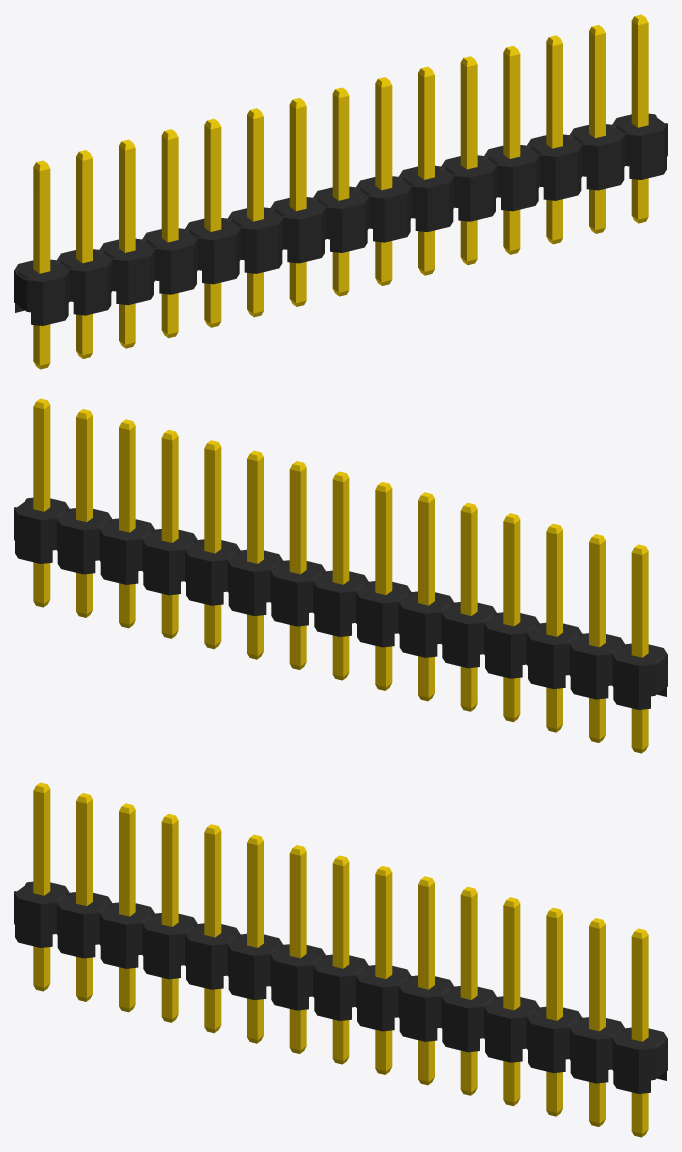
The model's file is PLS15.glb.
The picture shows the model from 3 angles, top to bottom: view 1: azimuth 30°, elevation 25°; view 2: azimuth 150°, elevation 25°; view 3: azimuth 330°, elevation 25°; orthographic projection.
Parts seen in each view (by area): view 1: PLS (DS1021 CONNFLY); view 2: PLS (DS1021 CONNFLY); view 3: PLS (DS1021 CONNFLY).
Part boxes in pixels (x1=…): PLS (DS1021 CONNFLY): x1=14, y1=14, x2=667, y2=369; PLS (DS1021 CONNFLY): x1=14, y1=398, x2=667, y2=753; PLS (DS1021 CONNFLY): x1=14, y1=782, x2=667, y2=1137.
Bounding box in the file's own units: 0.0381 × 0.0116 × 0.00254.
